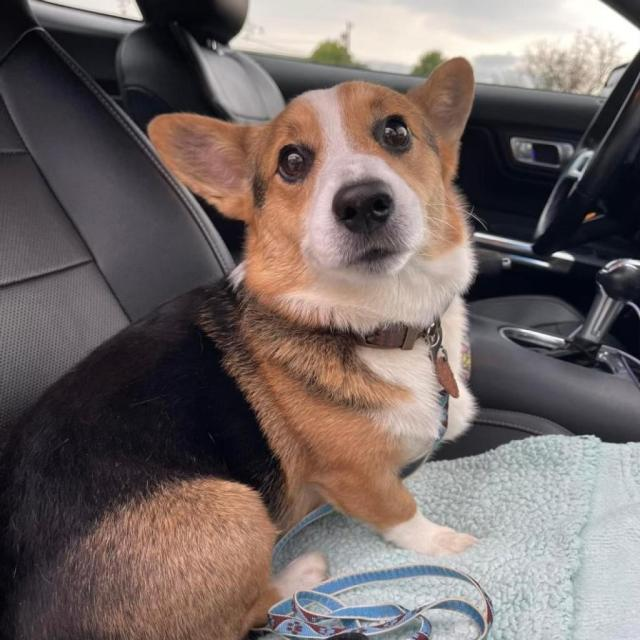corgi_dog: (144, 47, 484, 333)
